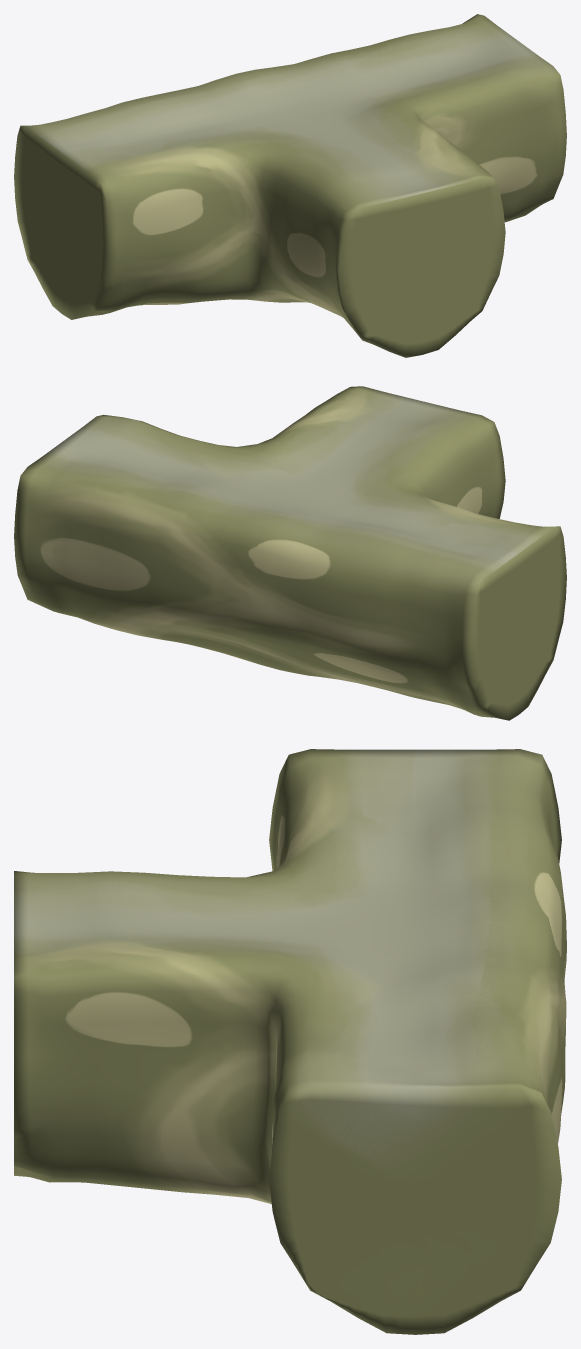
The model's file is StarPathIntersection.fbx.
The picture shows the model from 3 angles, top to bottom: view 1: azimuth 30°, elevation 25°; view 2: azimuth 150°, elevation 25°; view 3: azimuth 270°, elevation 25°; orthographic projection. The views are drawn at different scales.
Visible parts, largest first — view 1: StarPathIntersection; view 2: StarPathIntersection; view 3: StarPathIntersection.
Part boxes in pixels (x1,y1,x2,y2): StarPathIntersection: [14, 14, 566, 357]; StarPathIntersection: [14, 386, 566, 720]; StarPathIntersection: [14, 749, 566, 1334].
Bounding box in the file's own units: 600 × 233 × 413.
1 material, 1 textured.
